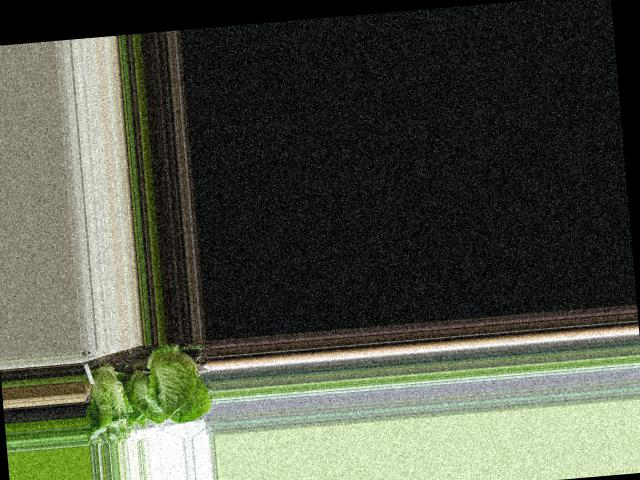lettuce: (86, 354, 135, 438)
